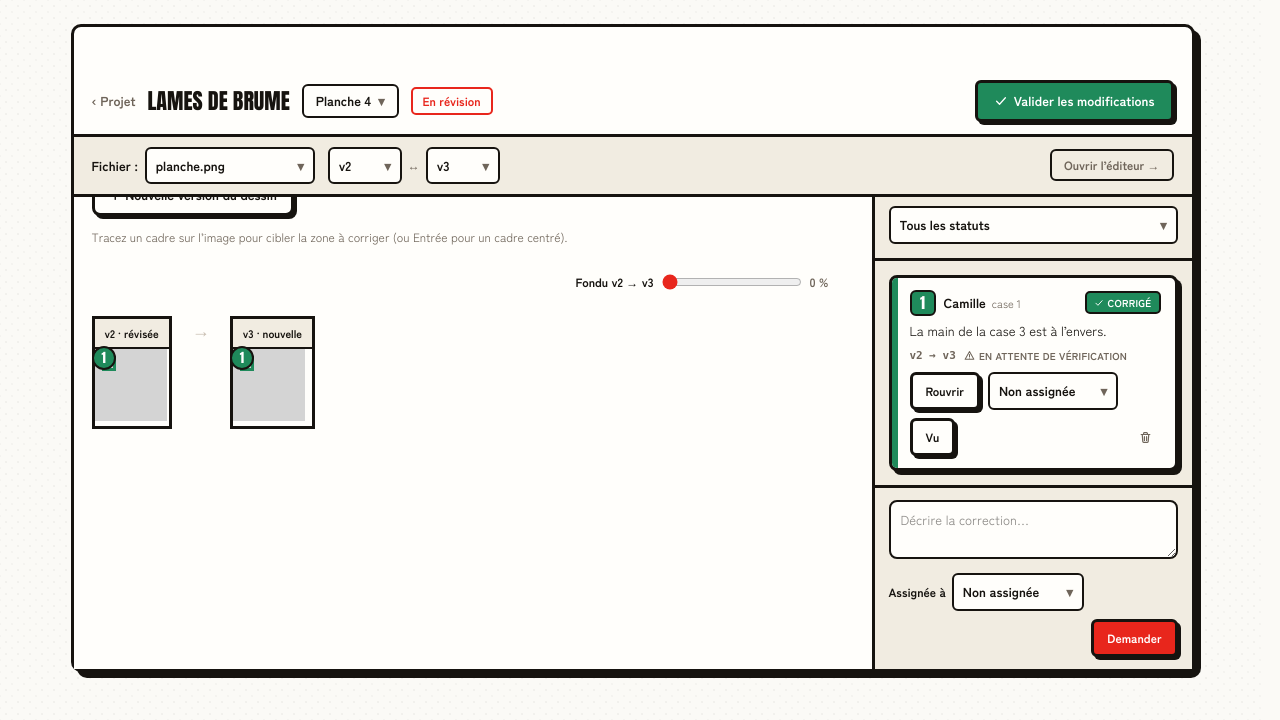
Test: ReviewClient — CS-24 verification loop › « Rouvrir » sends the existing status route with a_corriger (no confirm step)
Click the button "Rouvrir" at point(945, 391), box [910, 372, 980, 410]
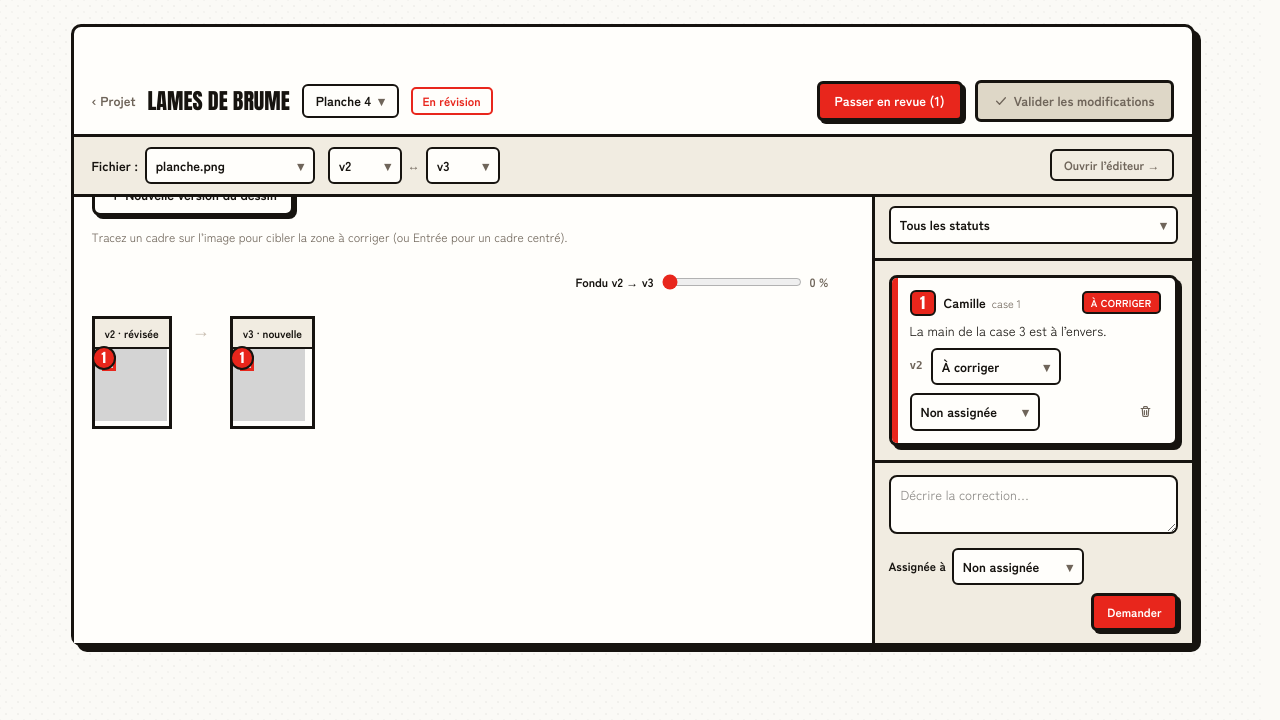
Expected: the 1st text "À corriger" is shown, [1082, 291, 1160, 314]
